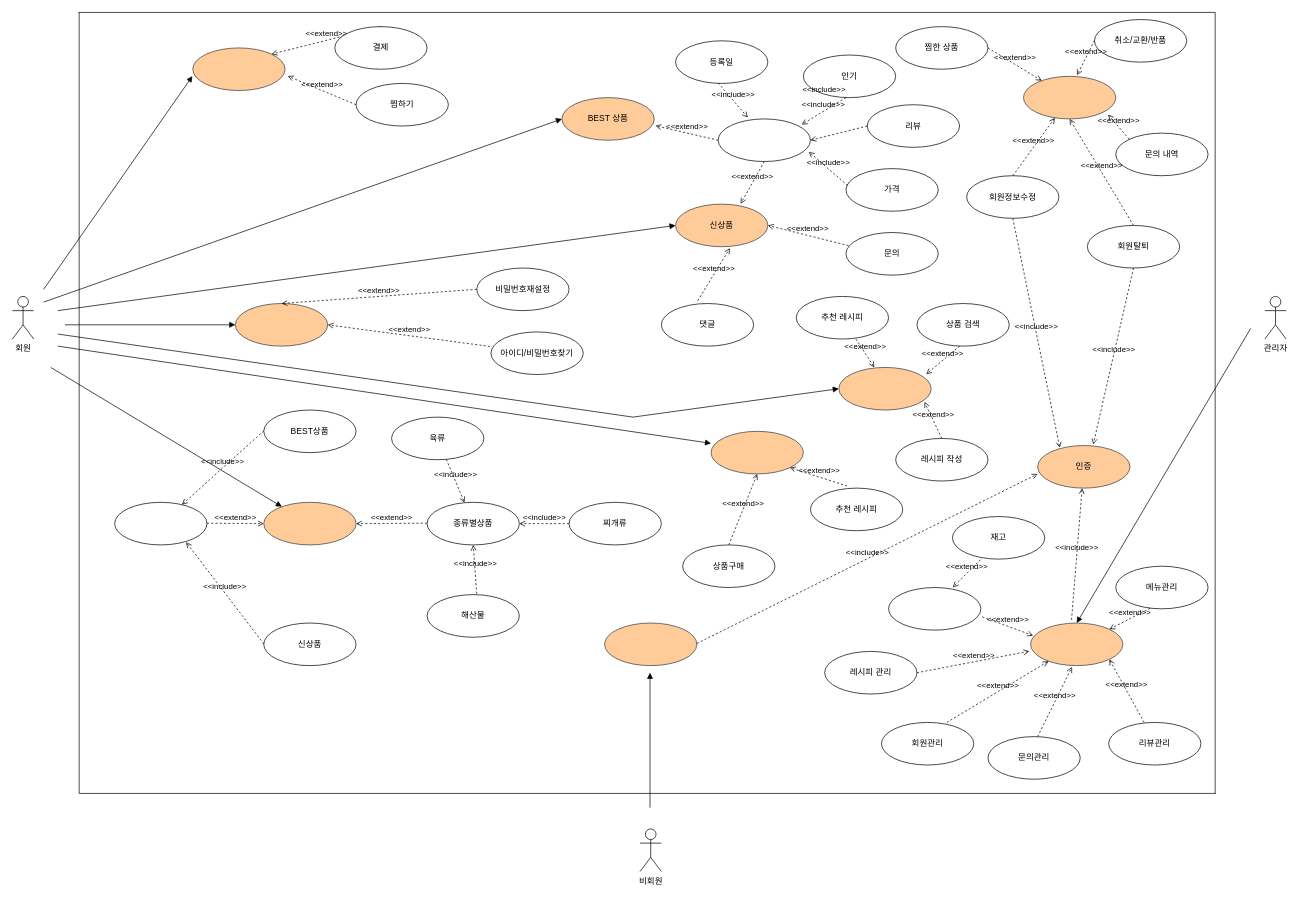
Some shapes in this 1299 by 899 pixel diagram are drawn without their labels. Each missing label, with the box of its shape:
관리페이지: (1030, 622, 1123, 666)
레시피: (838, 367, 931, 410)
로그인: (235, 303, 328, 346)
마이페이지: (1023, 76, 1116, 119)
상품조회: (717, 118, 810, 162)
장바구니: (192, 47, 285, 91)
재고관리: (888, 587, 981, 630)
전체상품: (114, 502, 207, 545)
카테고리: (263, 502, 356, 545)
타임특가: (710, 431, 803, 474)
회원가입: (604, 622, 697, 666)
